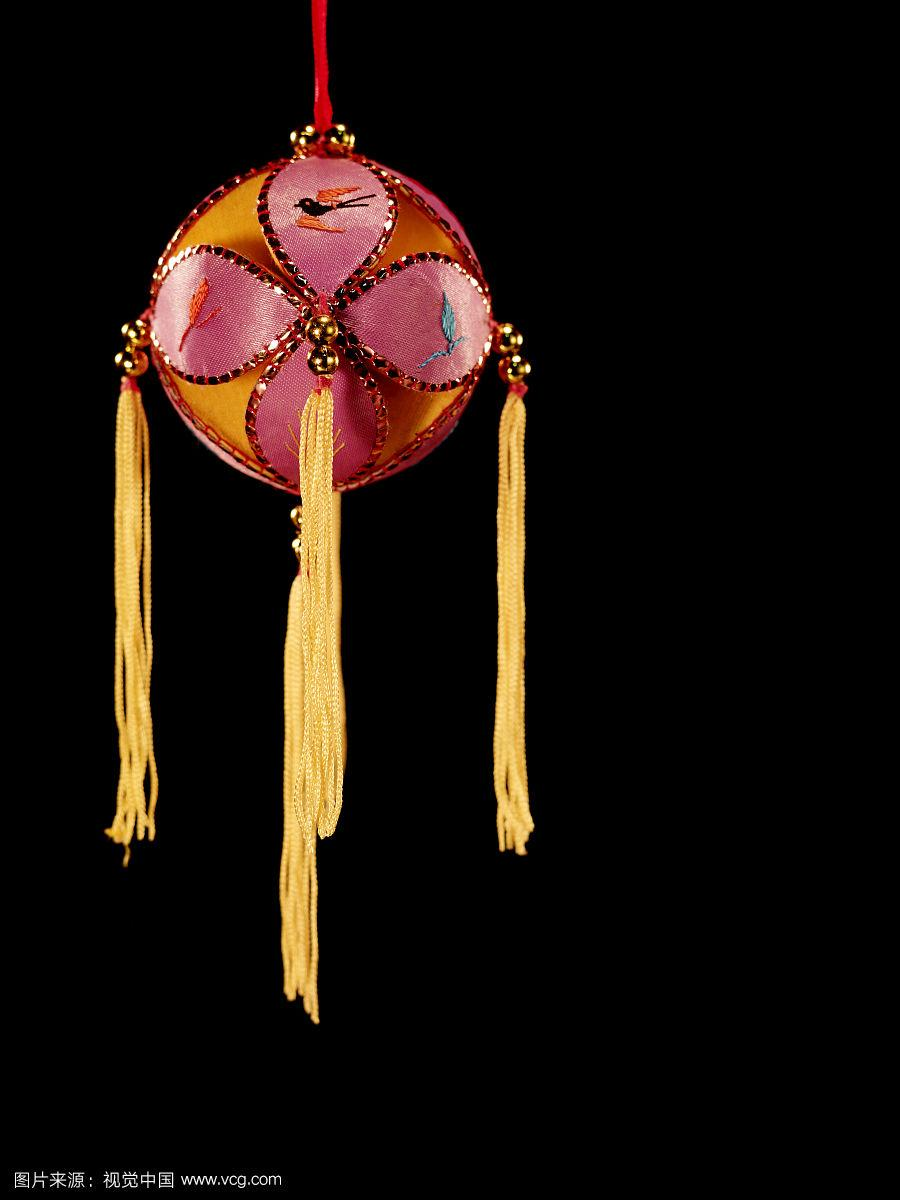xiuqiu: (148, 150, 499, 492)
